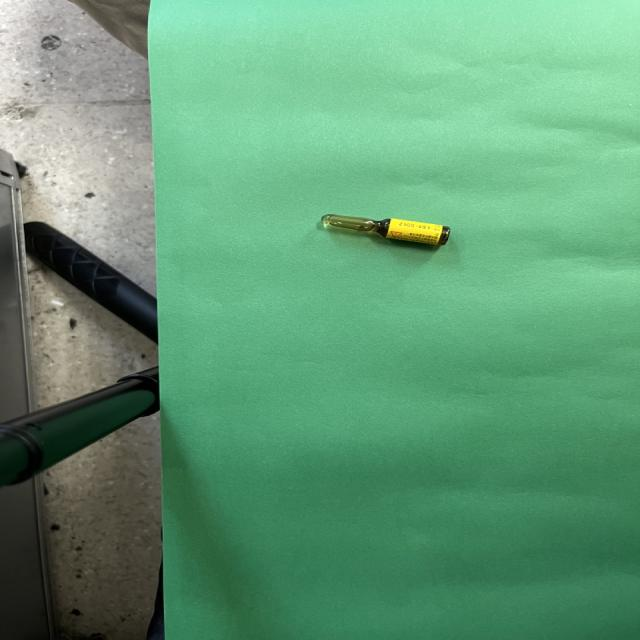Ampoules: (321, 214, 449, 246)
